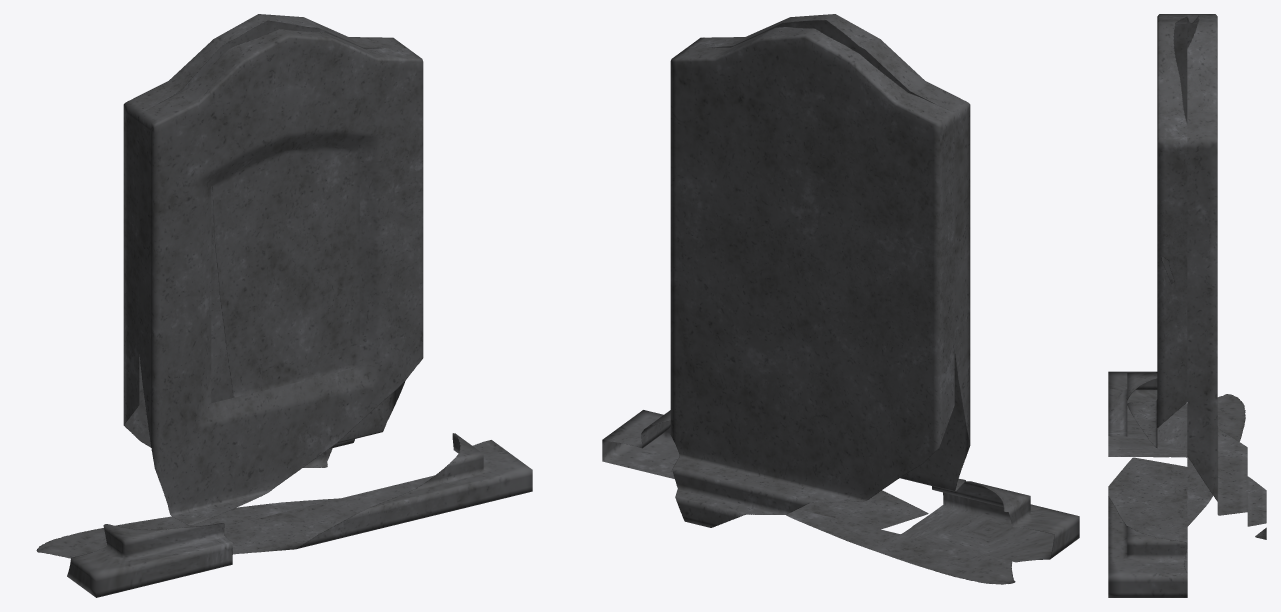
Rendered from stone_01.fbx.
The picture shows the model from 3 angles, left to right: view 1: azimuth 30°, elevation 25°; view 2: azimuth 150°, elevation 25°; view 3: azimuth 270°, elevation 25°; orthographic projection. The views are drawn at different scales.
Visible parts, largest first — view 1: stone_01; view 2: stone_01; view 3: stone_01.
Part boxes in pixels (x1,y1,x2,y2): stone_01: [36, 14, 532, 597]; stone_01: [602, 14, 1079, 584]; stone_01: [1108, 14, 1266, 597].
Size of the model in its own units: 136 by 146 by 44.36.
